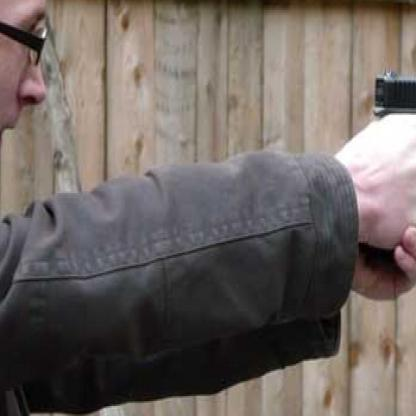gun: (346, 70, 415, 293)
